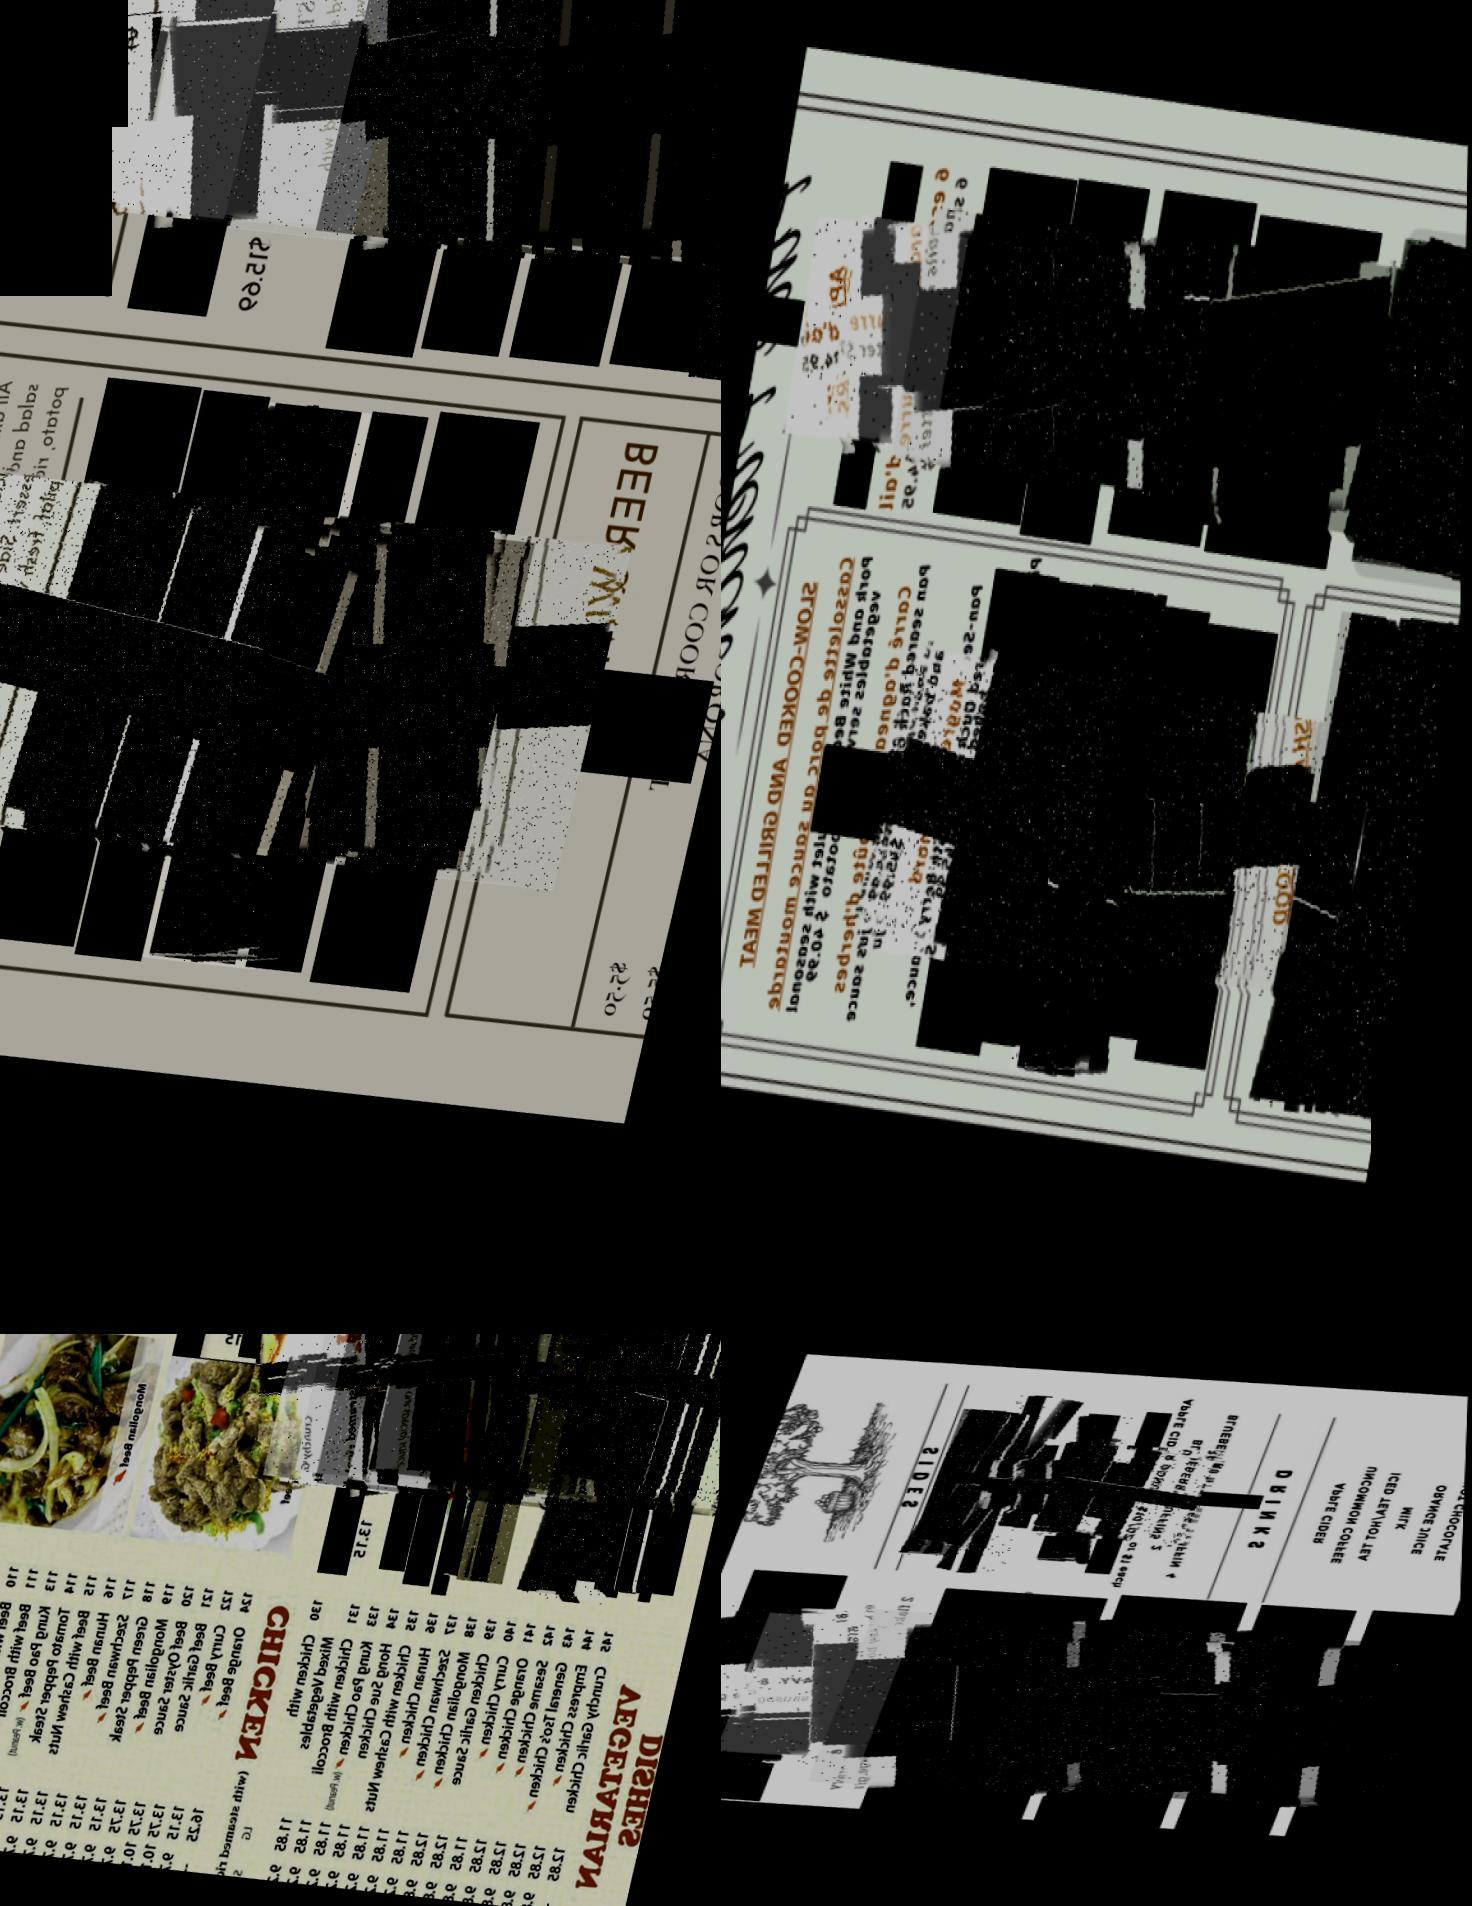Menu-Items: (224, 504, 639, 948), (0, 475, 383, 910), (145, 504, 541, 924), (135, 410, 388, 1000), (0, 454, 308, 901), (226, 0, 648, 322), (319, 0, 721, 322), (121, 0, 537, 298), (23, 0, 439, 281), (858, 628, 1123, 1014), (414, 0, 721, 331), (918, 640, 1172, 1008), (1089, 683, 1331, 1037), (1013, 584, 1175, 1101), (1177, 235, 1415, 583), (1030, 660, 1268, 1006), (1308, 625, 1461, 1149), (1263, 621, 1415, 1141), (810, 1597, 1163, 1816), (750, 529, 898, 1043), (976, 1611, 1313, 1823), (897, 193, 1118, 515), (976, 210, 1195, 532), (510, 0, 721, 331), (1075, 221, 1293, 539), (816, 556, 952, 1042), (877, 556, 1005, 1050), (319, 1334, 615, 1540), (230, 1334, 533, 1530), (824, 201, 1027, 493), (1115, 1631, 1423, 1823), (348, 1334, 632, 1541), (264, 1334, 558, 1530), (297, 1334, 581, 1526), (784, 199, 976, 478), (373, 1334, 646, 1529), (721, 1603, 1002, 1781), (543, 1334, 702, 1625), (507, 1334, 721, 1538), (520, 1334, 721, 1547), (1353, 250, 1467, 612), (1231, 1635, 1446, 1826), (530, 1334, 674, 1615), (721, 1591, 922, 1781), (458, 1334, 597, 1598), (555, 1334, 721, 1544), (608, 1334, 721, 1612), (249, 1594, 351, 1892), (577, 1334, 721, 1535), (118, 1577, 207, 1872), (323, 1601, 411, 1898), (175, 1591, 263, 1880), (399, 1615, 486, 1906), (380, 1615, 467, 1906), (136, 1581, 221, 1874), (22, 1566, 107, 1858), (363, 1612, 448, 1903), (286, 1598, 370, 1894), (99, 1574, 182, 1869), (59, 1574, 144, 1863), (79, 1574, 162, 1866), (40, 1569, 124, 1861), (498, 1629, 586, 1906), (540, 1639, 629, 1906), (348, 1611, 430, 1900), (424, 1618, 506, 1906), (3, 1564, 83, 1855), (461, 1628, 544, 1906), (441, 1623, 523, 1906), (158, 1589, 238, 1875), (1034, 1438, 1226, 1557), (309, 1609, 388, 1895), (951, 1396, 1070, 1581), (481, 1632, 561, 1906), (520, 1637, 600, 1906), (1104, 1401, 1203, 1597), (0, 1563, 66, 1853), (1155, 1413, 1257, 1589), (1034, 1416, 1136, 1572), (908, 1410, 1007, 1563), (0, 1554, 46, 1850), (943, 1413, 1031, 1554), (0, 1554, 28, 1847), (1146, 1439, 1212, 1561), (1007, 1458, 1116, 1526), (985, 1458, 1085, 1521), (1073, 1473, 1149, 1520)
